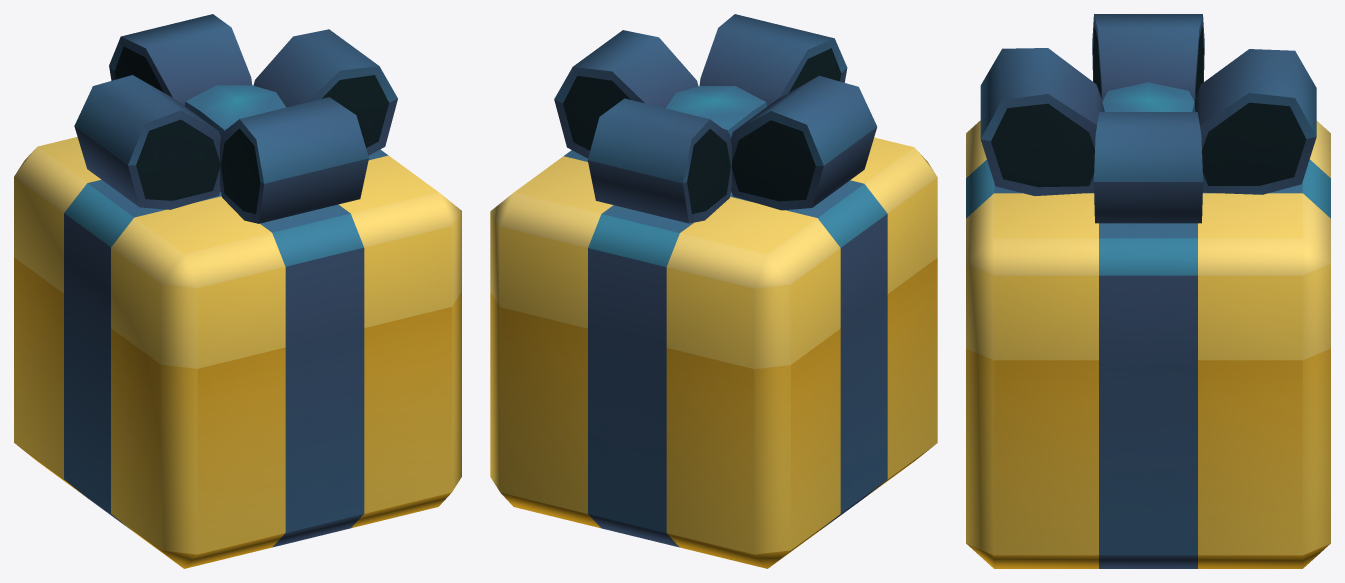
File: presi_square_4_yellow.fbx
3 views of the same model, side by side, from view 1: azimuth 30°, elevation 25°; view 2: azimuth 150°, elevation 25°; view 3: azimuth 270°, elevation 25° (orthographic). The views are drawn at different scales.
Visible parts, largest first — view 1: presi_square_4_yellow; view 2: presi_square_4_yellow; view 3: presi_square_4_yellow.
Boxes of the visible parts, x1,y1,x2,y2 form: presi_square_4_yellow: (14,14,461,568); presi_square_4_yellow: (490,14,937,568); presi_square_4_yellow: (966,14,1330,568).
Bounding box in the file's own units: 75 × 98 × 75.
1 material, 1 textured.
